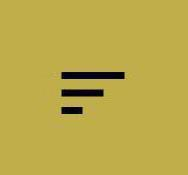ImgButton: (1, 1, 187, 174)
